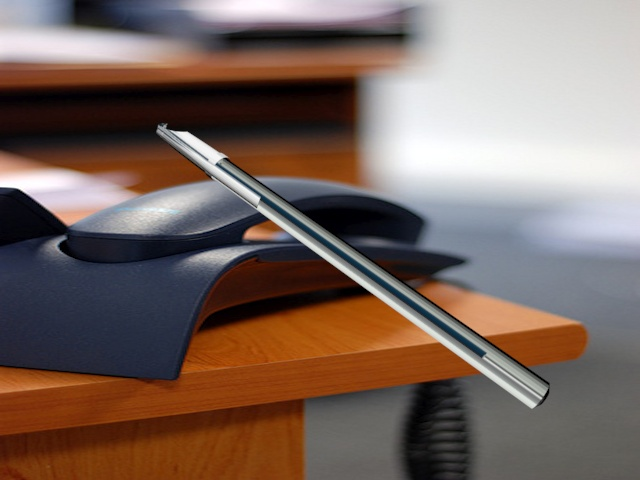pen: (151, 113, 552, 416)
